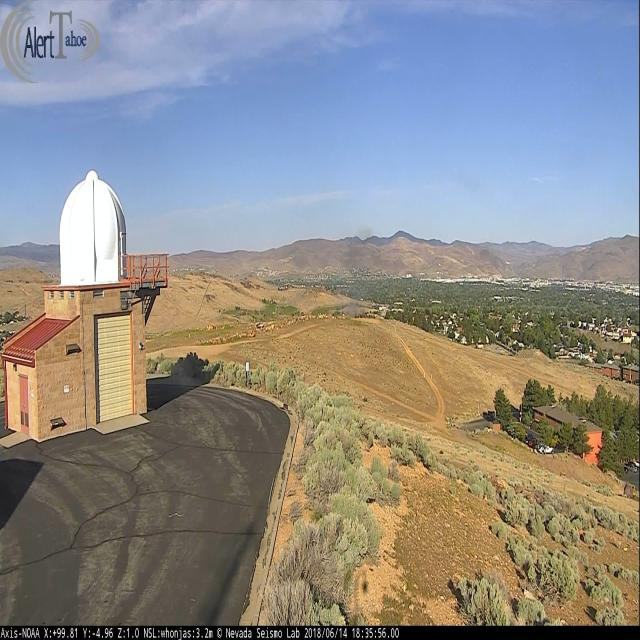smoke: (344, 228, 375, 318)
